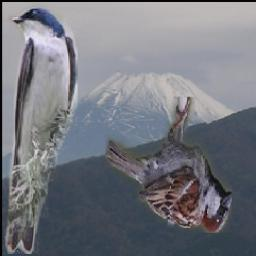Sparrow: (106, 98, 233, 234)
Swallow: (3, 4, 79, 255)
